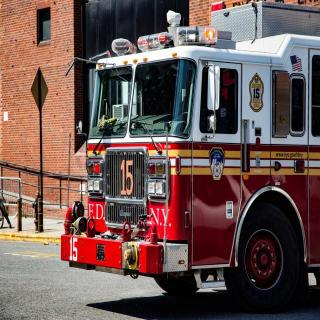Fire_truck: (60, 2, 320, 314)
